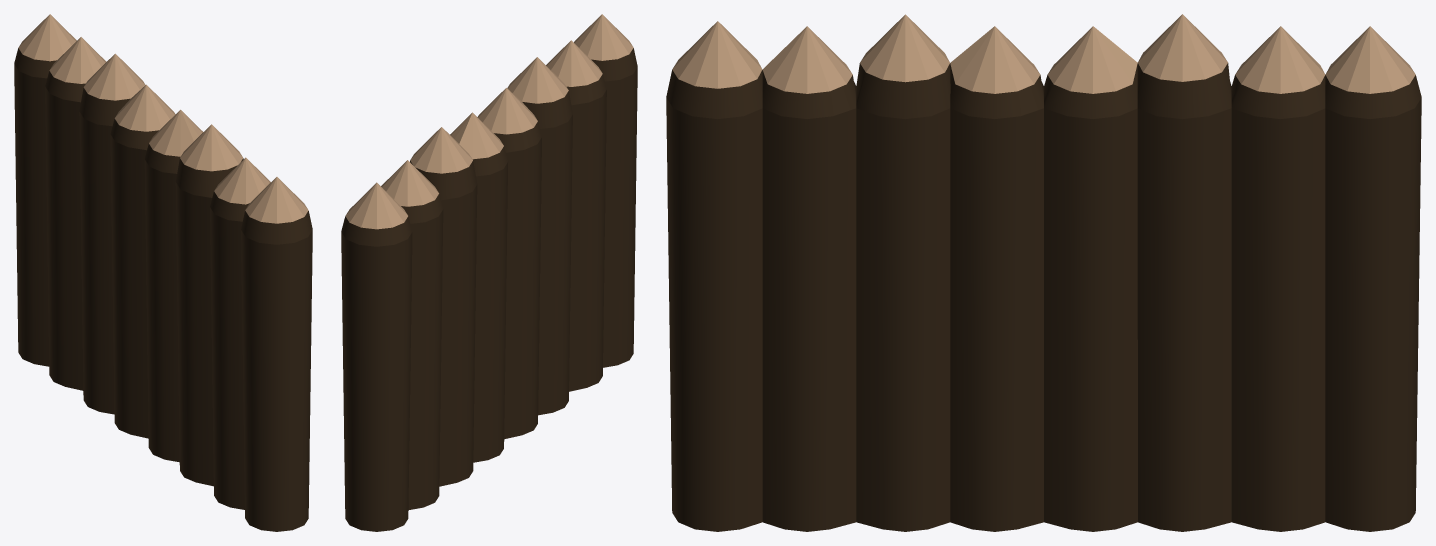
File: PallisadeWall2.fbx
The picture shows the model from 3 angles, left to right: view 1: azimuth 30°, elevation 25°; view 2: azimuth 150°, elevation 25°; view 3: azimuth 270°, elevation 25°; orthographic projection. The views are drawn at different scales.
Visible parts, largest first — view 1: PallisadeWall; view 2: PallisadeWall; view 3: PallisadeWall.
Boxes of the visible parts, left/top/right/bottom form: PallisadeWall: left=14, top=14, right=312, bottom=531; PallisadeWall: left=341, top=14, right=637, bottom=531; PallisadeWall: left=666, top=14, right=1421, bottom=531.
Size of the model in its own units: 34.65 by 185 by 254.
